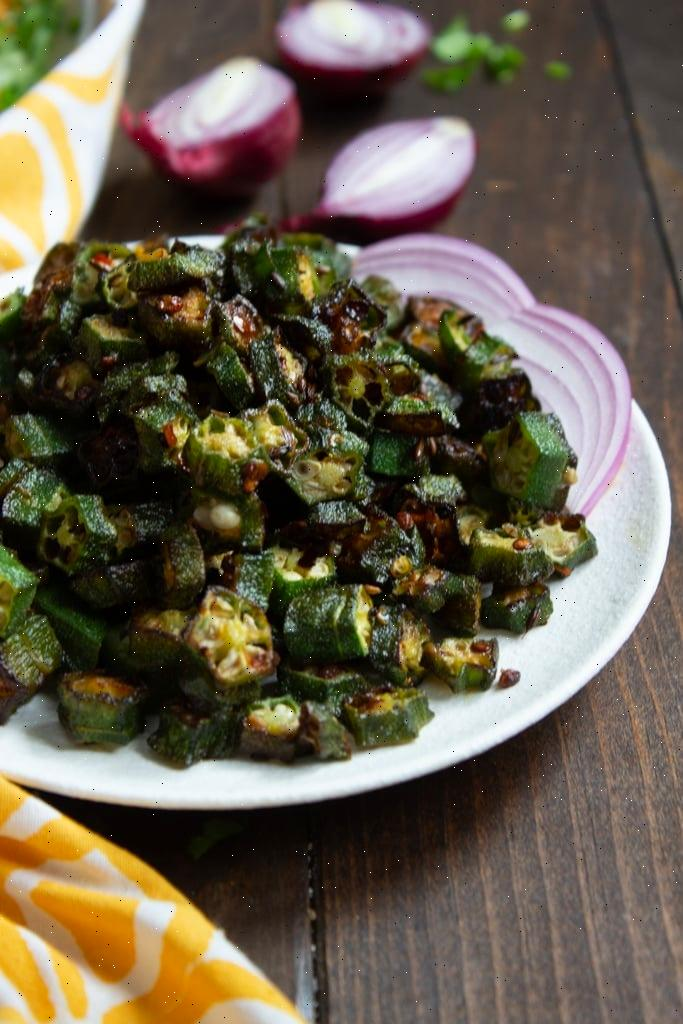bhindi: (28, 215, 546, 713)
